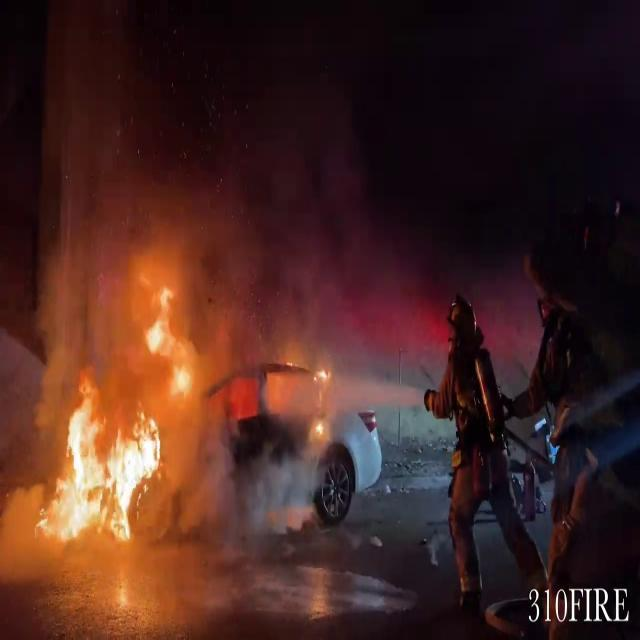Fire: (34, 280, 196, 548)
Smoke: (31, 14, 362, 364)
